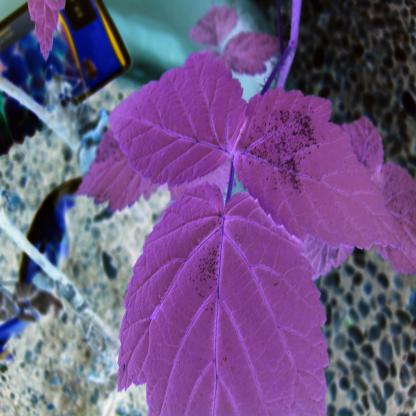raspberry leaf: (116, 177, 331, 415), (233, 88, 416, 255), (103, 45, 243, 187)
